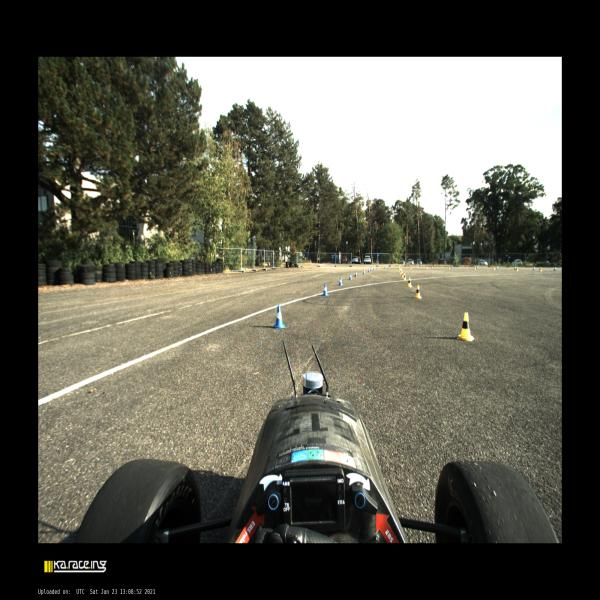blue_cone: (273, 306, 286, 328), (322, 284, 328, 296), (339, 277, 343, 285), (349, 273, 352, 280), (532, 266, 535, 270), (355, 271, 357, 277), (496, 266, 499, 270), (554, 266, 556, 271), (370, 267, 372, 271), (363, 270, 365, 274), (476, 265, 478, 269), (514, 266, 516, 270), (376, 266, 378, 269), (373, 267, 375, 270), (368, 269, 370, 272), (384, 266, 386, 268), (431, 266, 433, 268), (451, 266, 453, 268), (416, 265, 417, 268)
yellow_cone: (457, 312, 474, 342), (414, 286, 422, 300), (407, 277, 413, 287), (539, 266, 542, 272), (403, 274, 406, 280), (515, 266, 518, 271), (401, 271, 403, 278), (400, 270, 402, 275), (493, 266, 495, 270), (474, 266, 476, 270), (410, 265, 412, 269), (448, 266, 450, 269), (400, 266, 402, 269), (399, 268, 400, 272), (426, 266, 428, 268)
